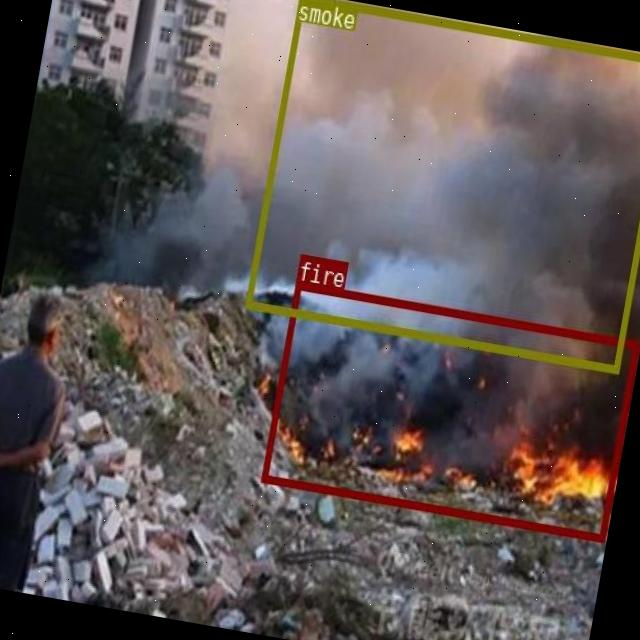fire: (261, 280, 638, 540)
smoke: (243, 0, 640, 371)
